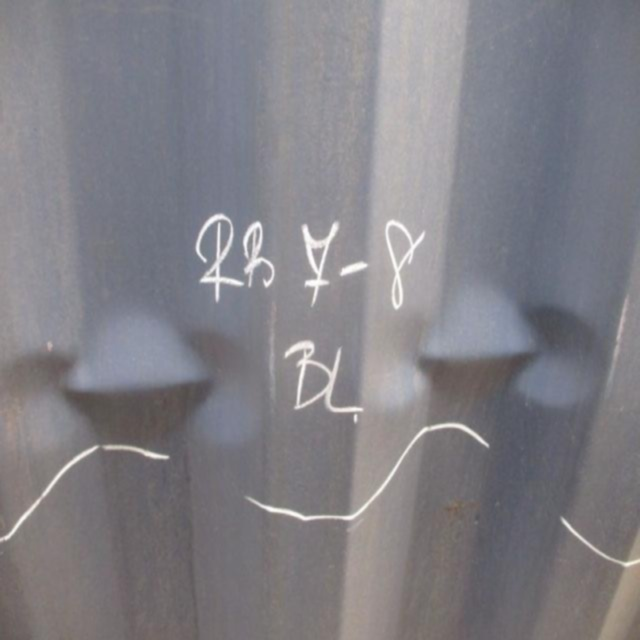Dent: (1, 262, 640, 478)
